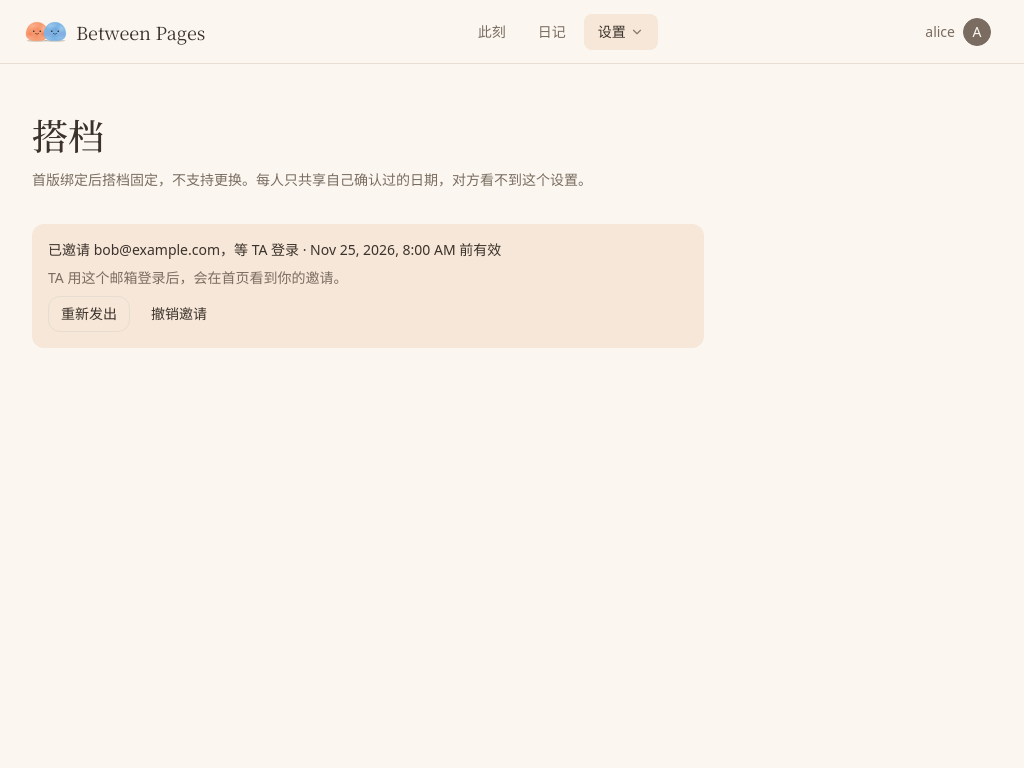
Test case: inviting by email on 设置 → 搭档 › re-sends with the address filled in only on another click, and says when the limit is reached
Click the button "重新发出" at (89, 314), box [48, 296, 130, 332]
(page scrolled)
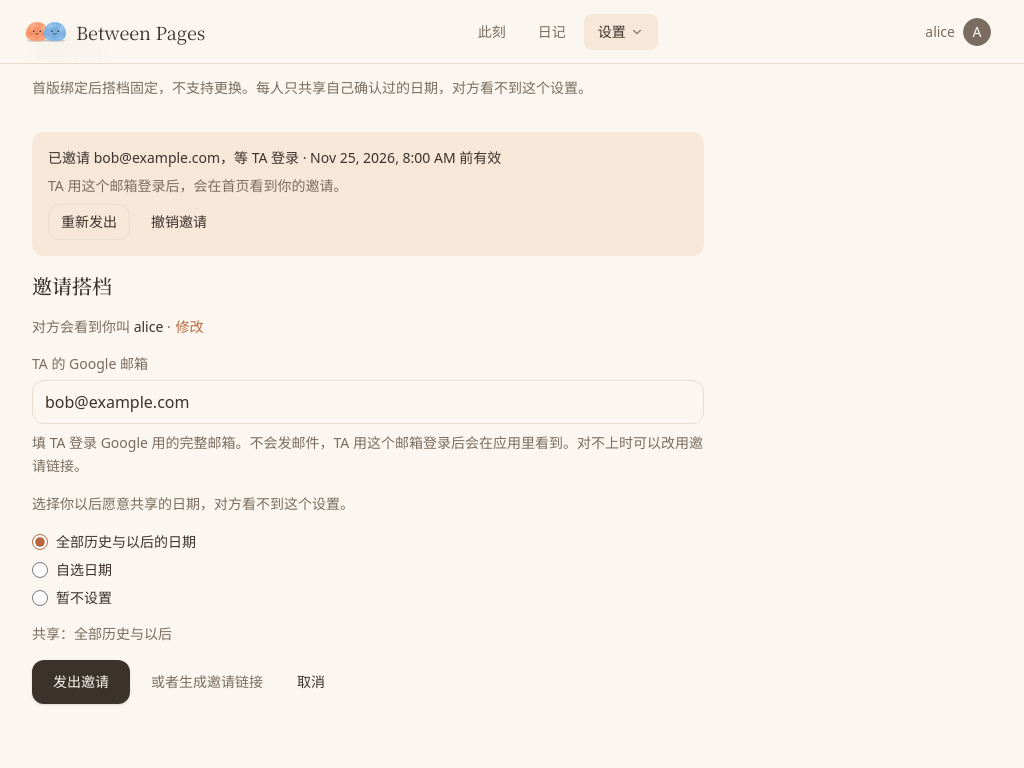
Result: the field labelled "TA 的 Google 邮箱" holds "bob@example.com" at [32, 380, 704, 424]
Click the button "发出邀请" at (81, 682), box [32, 660, 130, 704]
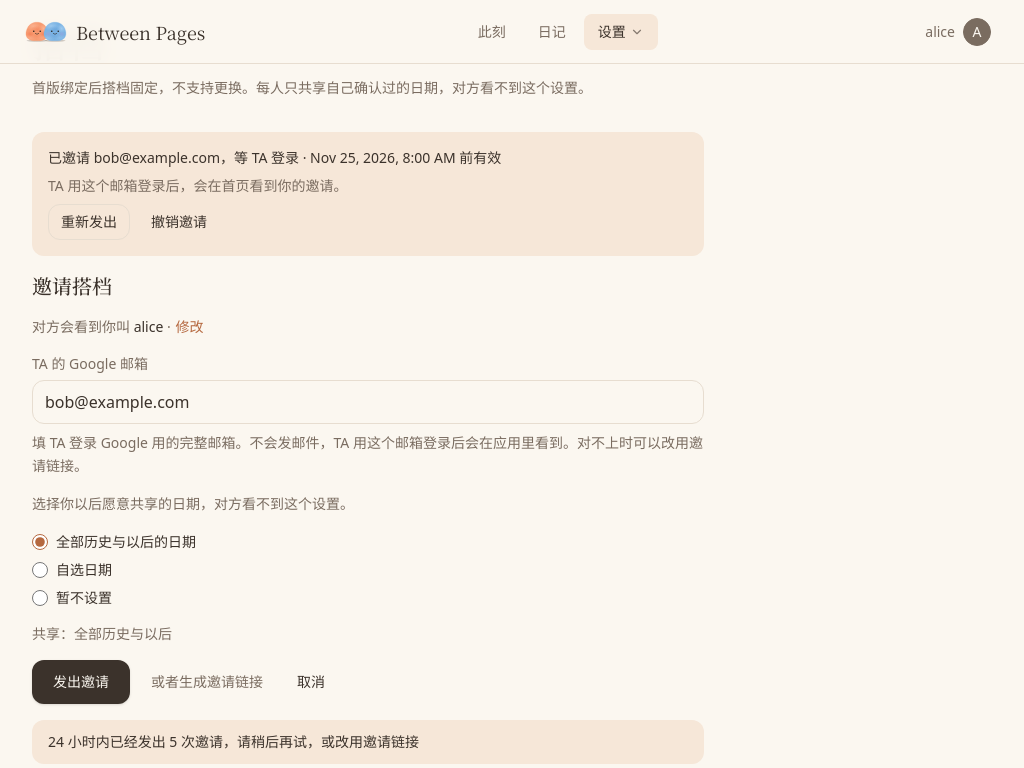
Result: the message reads "24 小时内已经发出 5 次邀请，请稍后再试，或改用邀请链接" at [48, 732, 419, 751]
